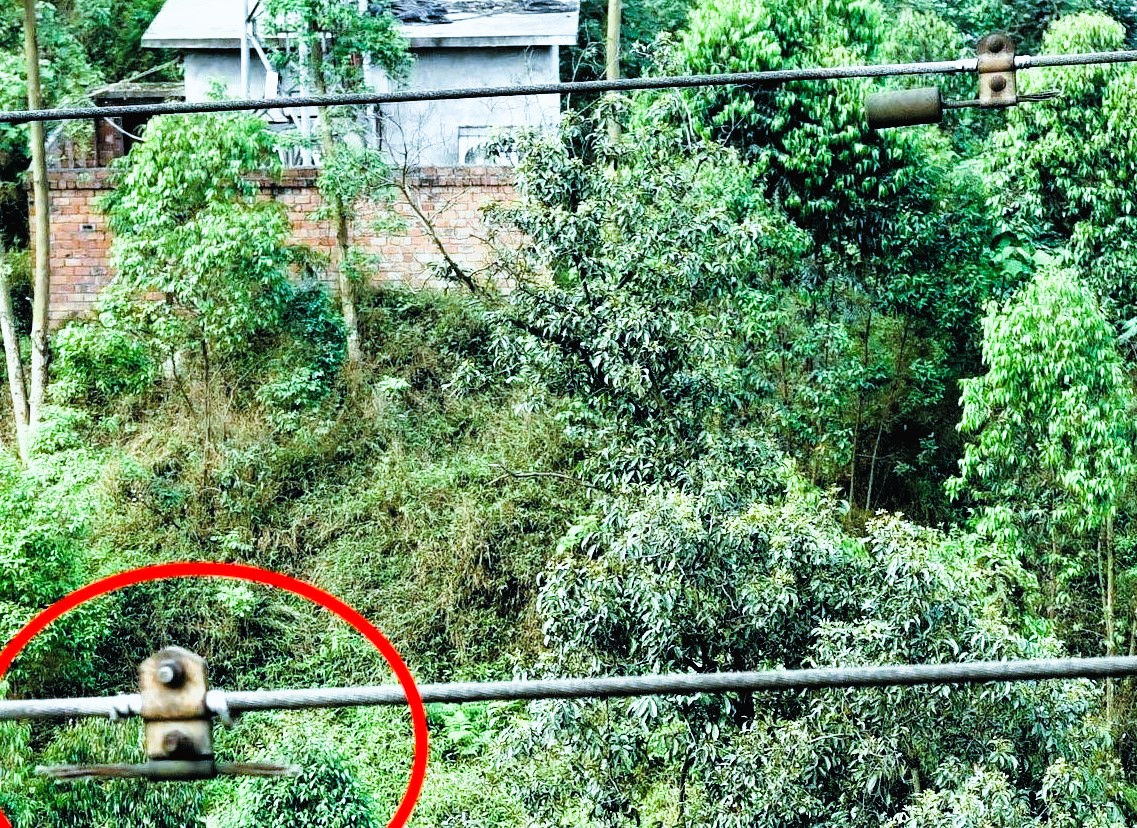Damage of shockproof hammer: (35, 638, 302, 806), (852, 19, 1085, 134)
